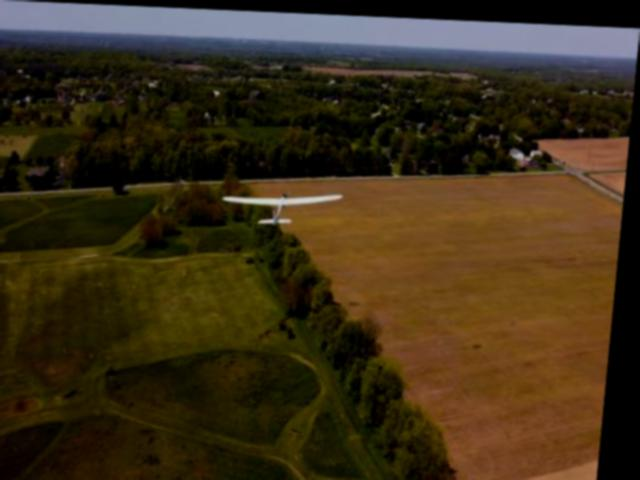uav: (216, 174, 356, 232)
